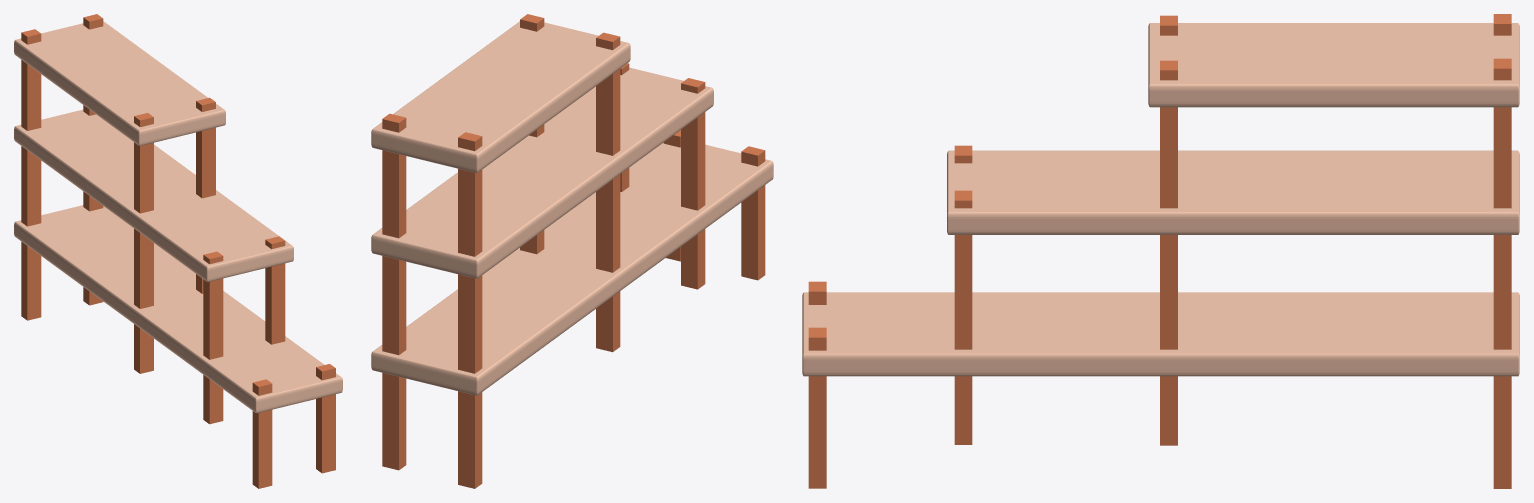
Rendered from Shelf.glb.
The picture shows the model from 3 angles, left to right: view 1: azimuth 30°, elevation 25°; view 2: azimuth 150°, elevation 25°; view 3: azimuth 270°, elevation 25°; orthographic projection. The views are drawn at different scales.
Visible parts, largest first — view 1: Cube.065; view 2: Cube.065; view 3: Cube.065.
Boxes of the visible parts, x1,y1,x2,y2 form: Cube.065: (14,14,342,488); Cube.065: (371,14,773,488); Cube.065: (802,14,1519,488).
Bounding box in the file's own units: 0.3177 × 0.9847 × 1.52.
